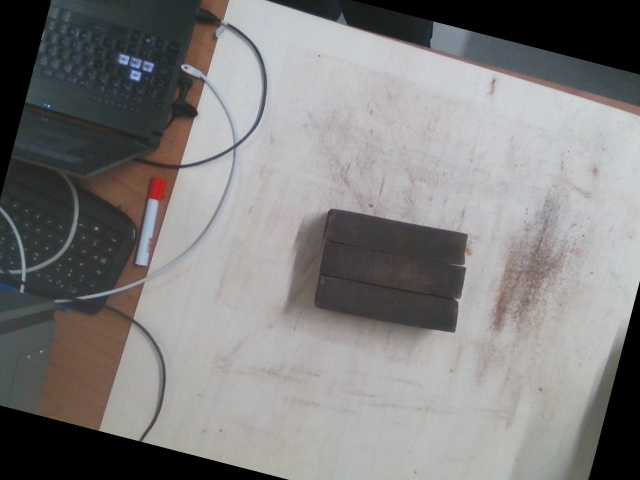brick-side: (321, 243, 464, 300), (316, 275, 459, 332), (326, 209, 469, 266)
